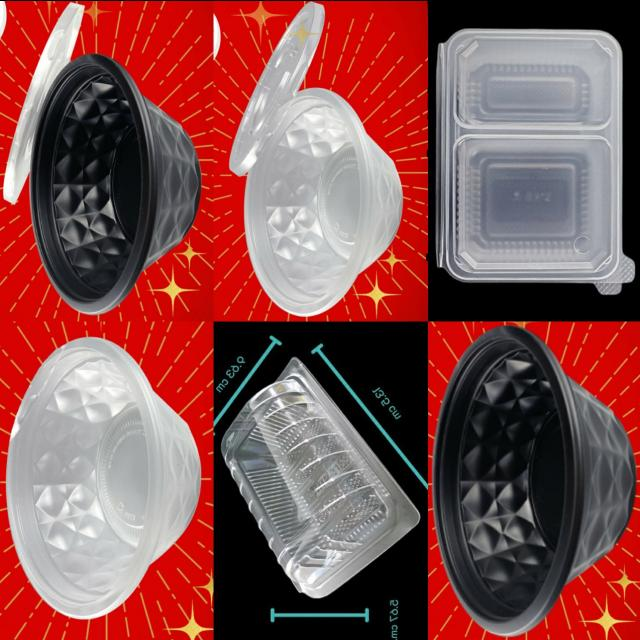plastik: (433, 325, 635, 635), (7, 336, 199, 618), (436, 27, 635, 293), (221, 357, 420, 596), (30, 53, 200, 313), (244, 87, 402, 314), (229, 1, 325, 175), (3, 2, 84, 202)
